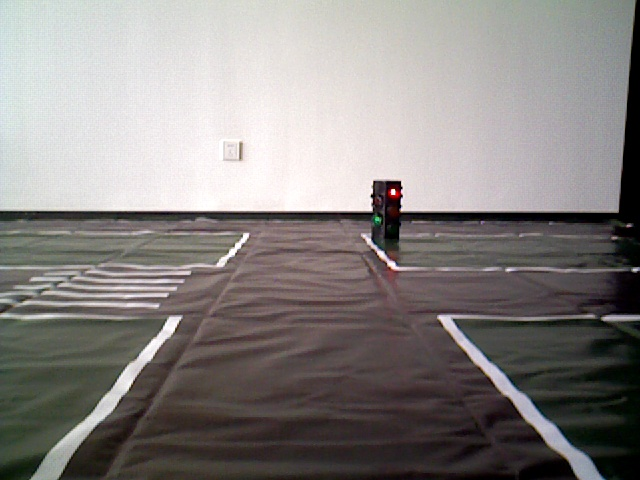red: (373, 181, 399, 246)
